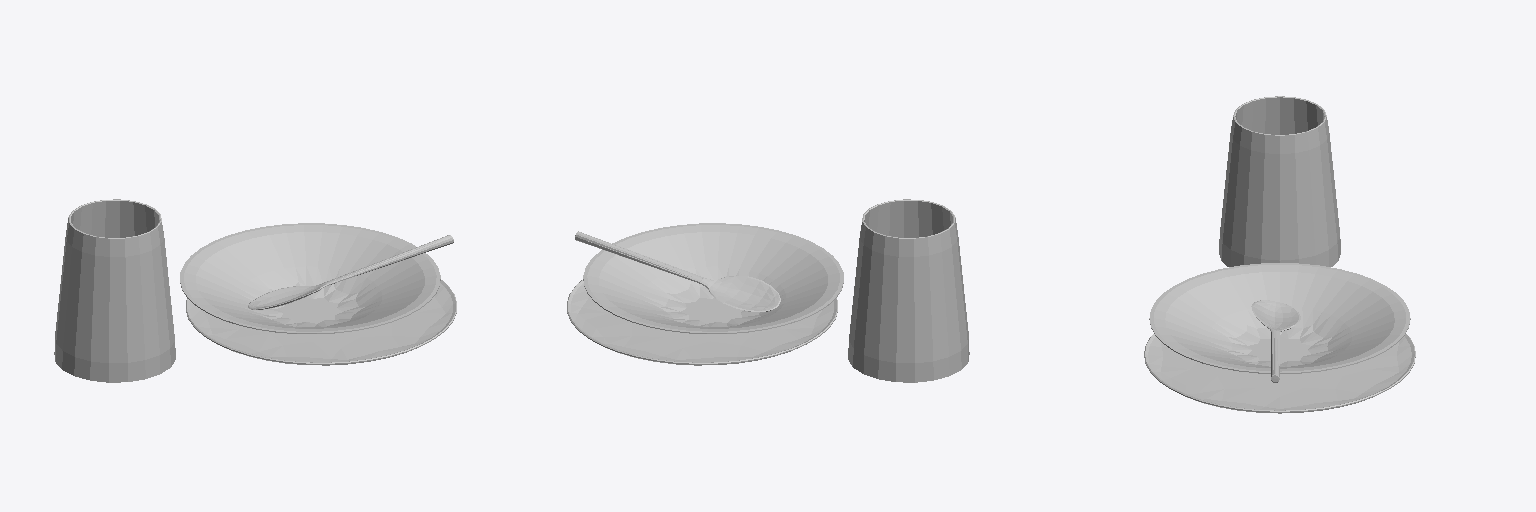
Rendered from Platos y vaso.obj.
3 renders of one model, left to right at view 1: azimuth 30°, elevation 25°; view 2: azimuth 150°, elevation 25°; view 3: azimuth 270°, elevation 25°, orthographic.
Visible parts, largest first — view 1: Medieval_Metal_Dishes_OBJ:MeshpolySurface2, Medieval_Metal_Dishes_OBJ:Mesh, Medieval_Metal_Dishes_OBJ:MeshpolySurface1, Medieval_Metal_Dishes_OBJ:MeshpolySurface3; view 2: Medieval_Metal_Dishes_OBJ:MeshpolySurface2, Medieval_Metal_Dishes_OBJ:Mesh, Medieval_Metal_Dishes_OBJ:MeshpolySurface1, Medieval_Metal_Dishes_OBJ:MeshpolySurface3; view 3: Medieval_Metal_Dishes_OBJ:MeshpolySurface2, Medieval_Metal_Dishes_OBJ:Mesh, Medieval_Metal_Dishes_OBJ:MeshpolySurface1, Medieval_Metal_Dishes_OBJ:MeshpolySurface3.
Part boxes in pixels (bbox=[...]): Medieval_Metal_Dishes_OBJ:MeshpolySurface2: bbox=[180, 223, 440, 333]; Medieval_Metal_Dishes_OBJ:Mesh: bbox=[54, 199, 175, 382]; Medieval_Metal_Dishes_OBJ:MeshpolySurface1: bbox=[186, 280, 456, 365]; Medieval_Metal_Dishes_OBJ:MeshpolySurface3: bbox=[248, 235, 453, 309]; Medieval_Metal_Dishes_OBJ:MeshpolySurface2: bbox=[583, 223, 843, 333]; Medieval_Metal_Dishes_OBJ:Mesh: bbox=[848, 199, 969, 382]; Medieval_Metal_Dishes_OBJ:MeshpolySurface1: bbox=[567, 280, 837, 365]; Medieval_Metal_Dishes_OBJ:MeshpolySurface3: bbox=[575, 231, 780, 311]; Medieval_Metal_Dishes_OBJ:MeshpolySurface2: bbox=[1149, 263, 1410, 373]; Medieval_Metal_Dishes_OBJ:Mesh: bbox=[1219, 96, 1340, 266]; Medieval_Metal_Dishes_OBJ:MeshpolySurface1: bbox=[1144, 334, 1415, 413]; Medieval_Metal_Dishes_OBJ:MeshpolySurface3: bbox=[1251, 300, 1300, 382].
Bounding box in the file's own units: 3.67 × 1.29 × 2.23.